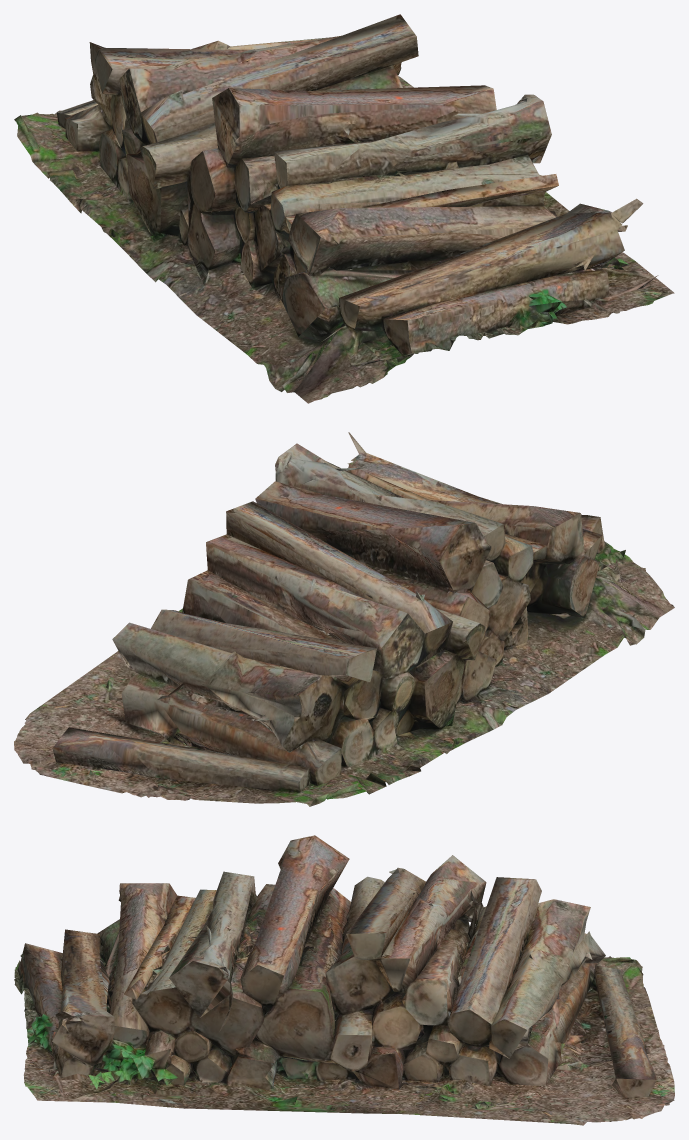
File: log_pile.glb
The picture shows the model from 3 angles, top to bottom: view 1: azimuth 30°, elevation 25°; view 2: azimuth 150°, elevation 25°; view 3: azimuth 270°, elevation 25°; orthographic projection. The views are drawn at different scales.
Visible parts, largest first — view 1: log_pile; view 2: log_pile; view 3: log_pile.
Boxes of the visible parts, box(x1,y1,x2,y2) form: log_pile: box(14, 14, 674, 403); log_pile: box(14, 432, 674, 806); log_pile: box(14, 835, 674, 1125).
Bounding box in the file's own units: 3.02 × 1.45 × 5.
1 material, 1 textured.
